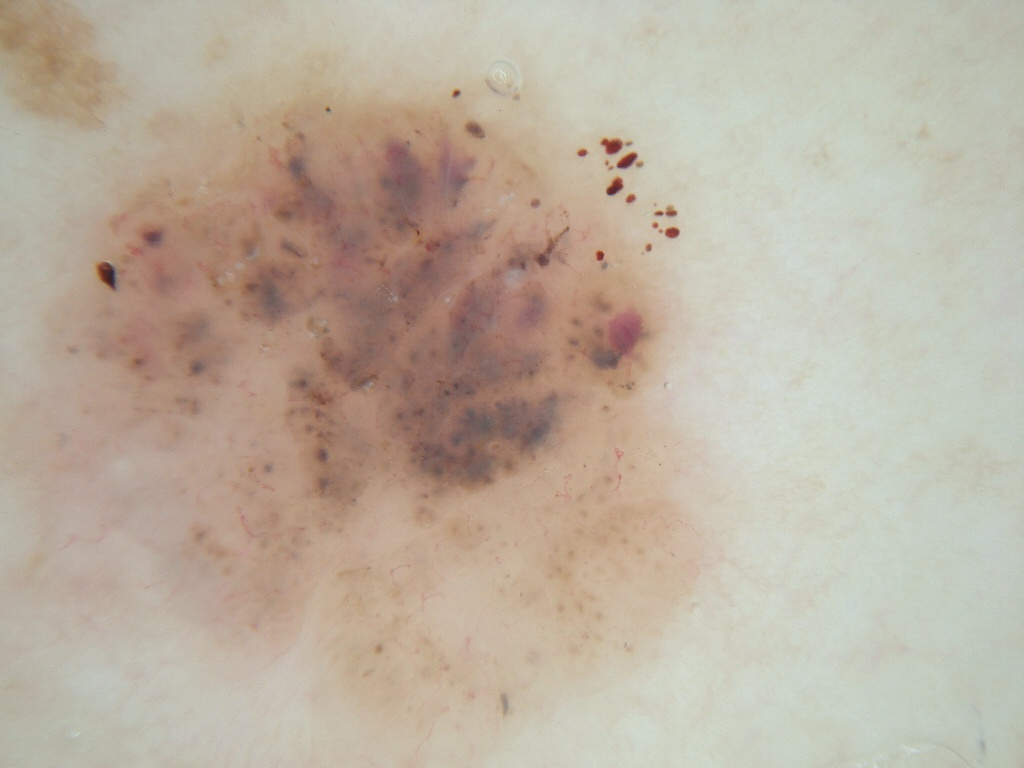Detected Lesion: (74, 82, 693, 750)
